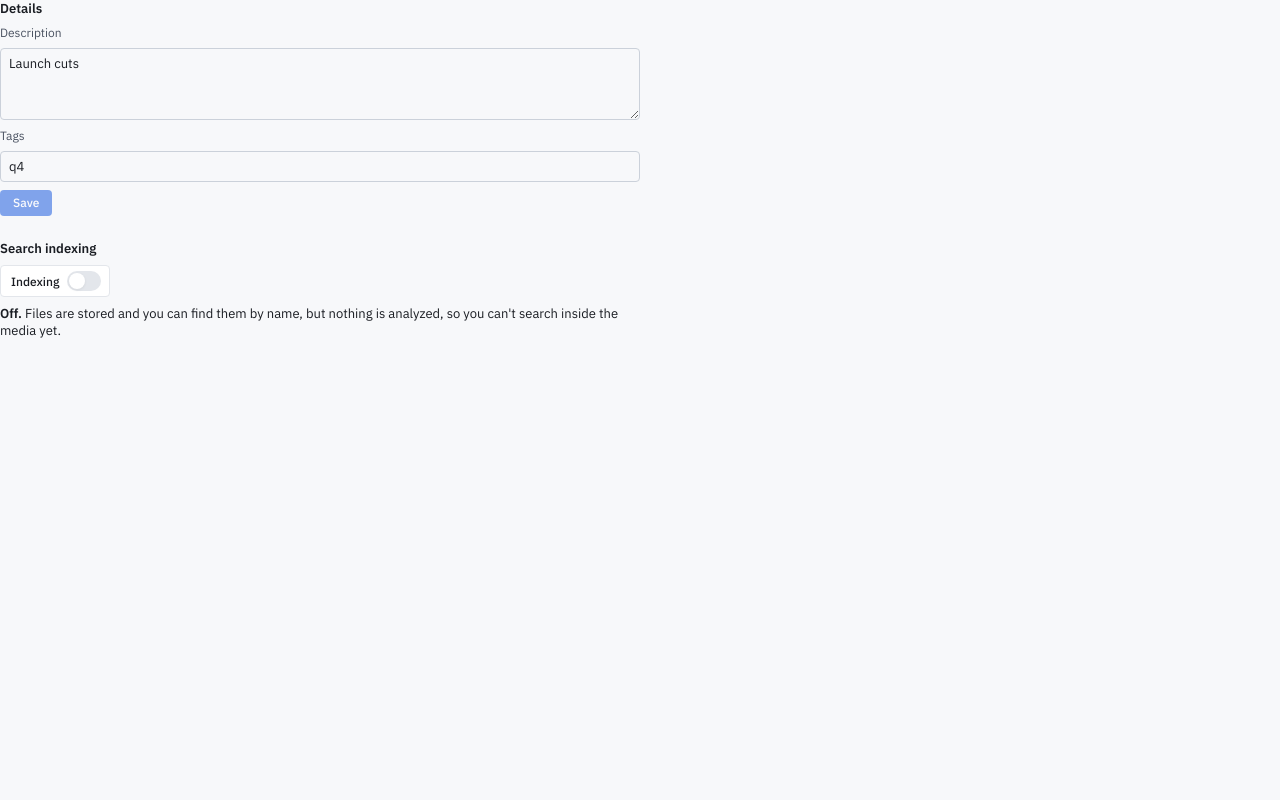
Test: ProjectSettings › shows the server refusal
The width and height of the screenshot is (1280, 800).
Click the switch named "Turn on indexing". click: (55, 281)
box: 0,265 -> 110,297
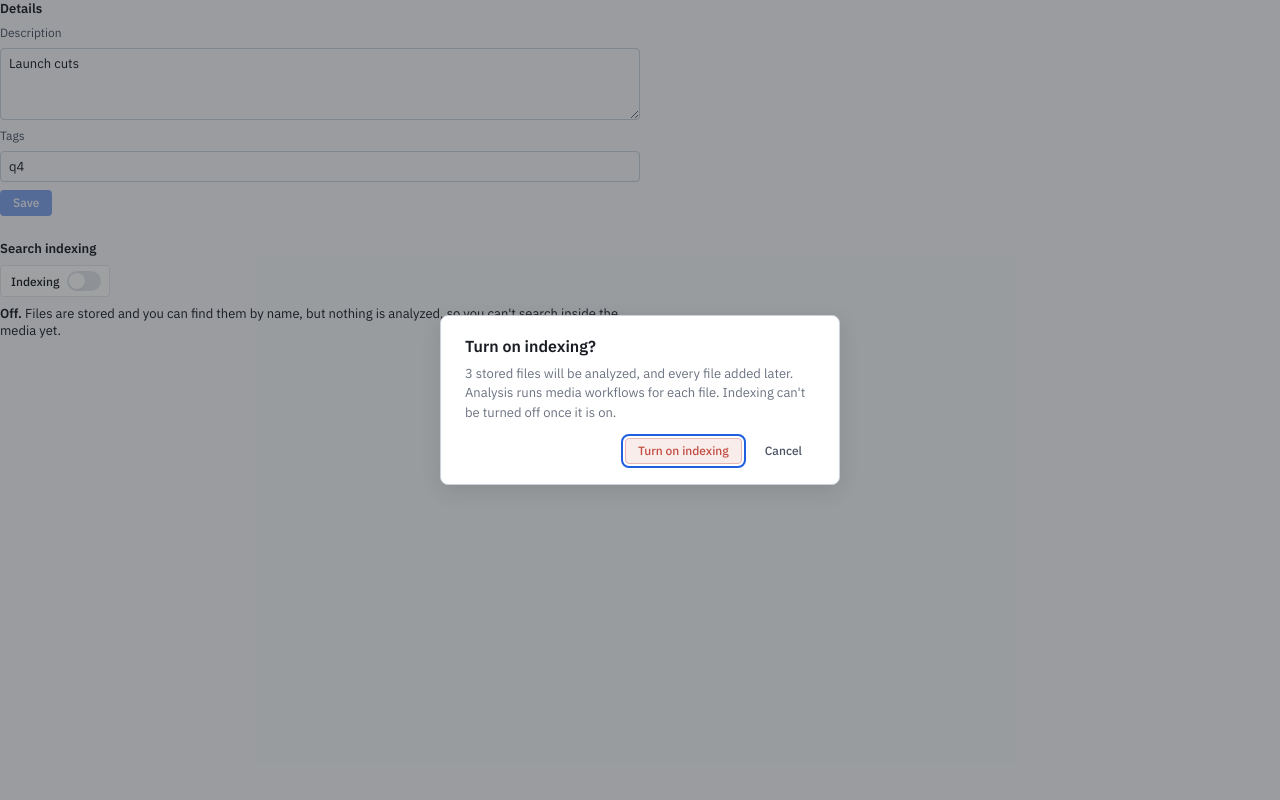
Click the button "Turn on indexing". click: (683, 451)
box: 625,438 -> 742,464
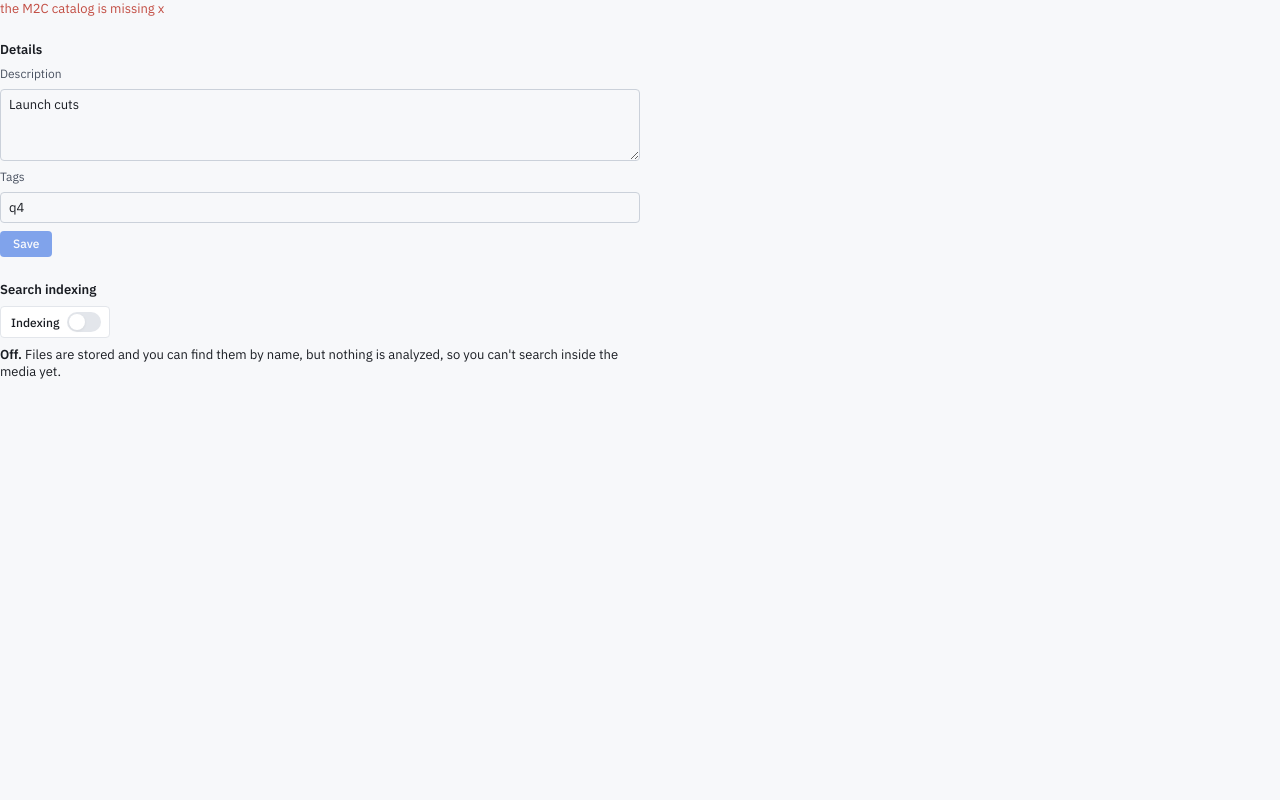
Expected: the element with test id "indexing-state" shows "Off.", 0,346 -> 22,363
Now the message reads "the M2C catalog is missing x", box 0,0 -> 164,17
